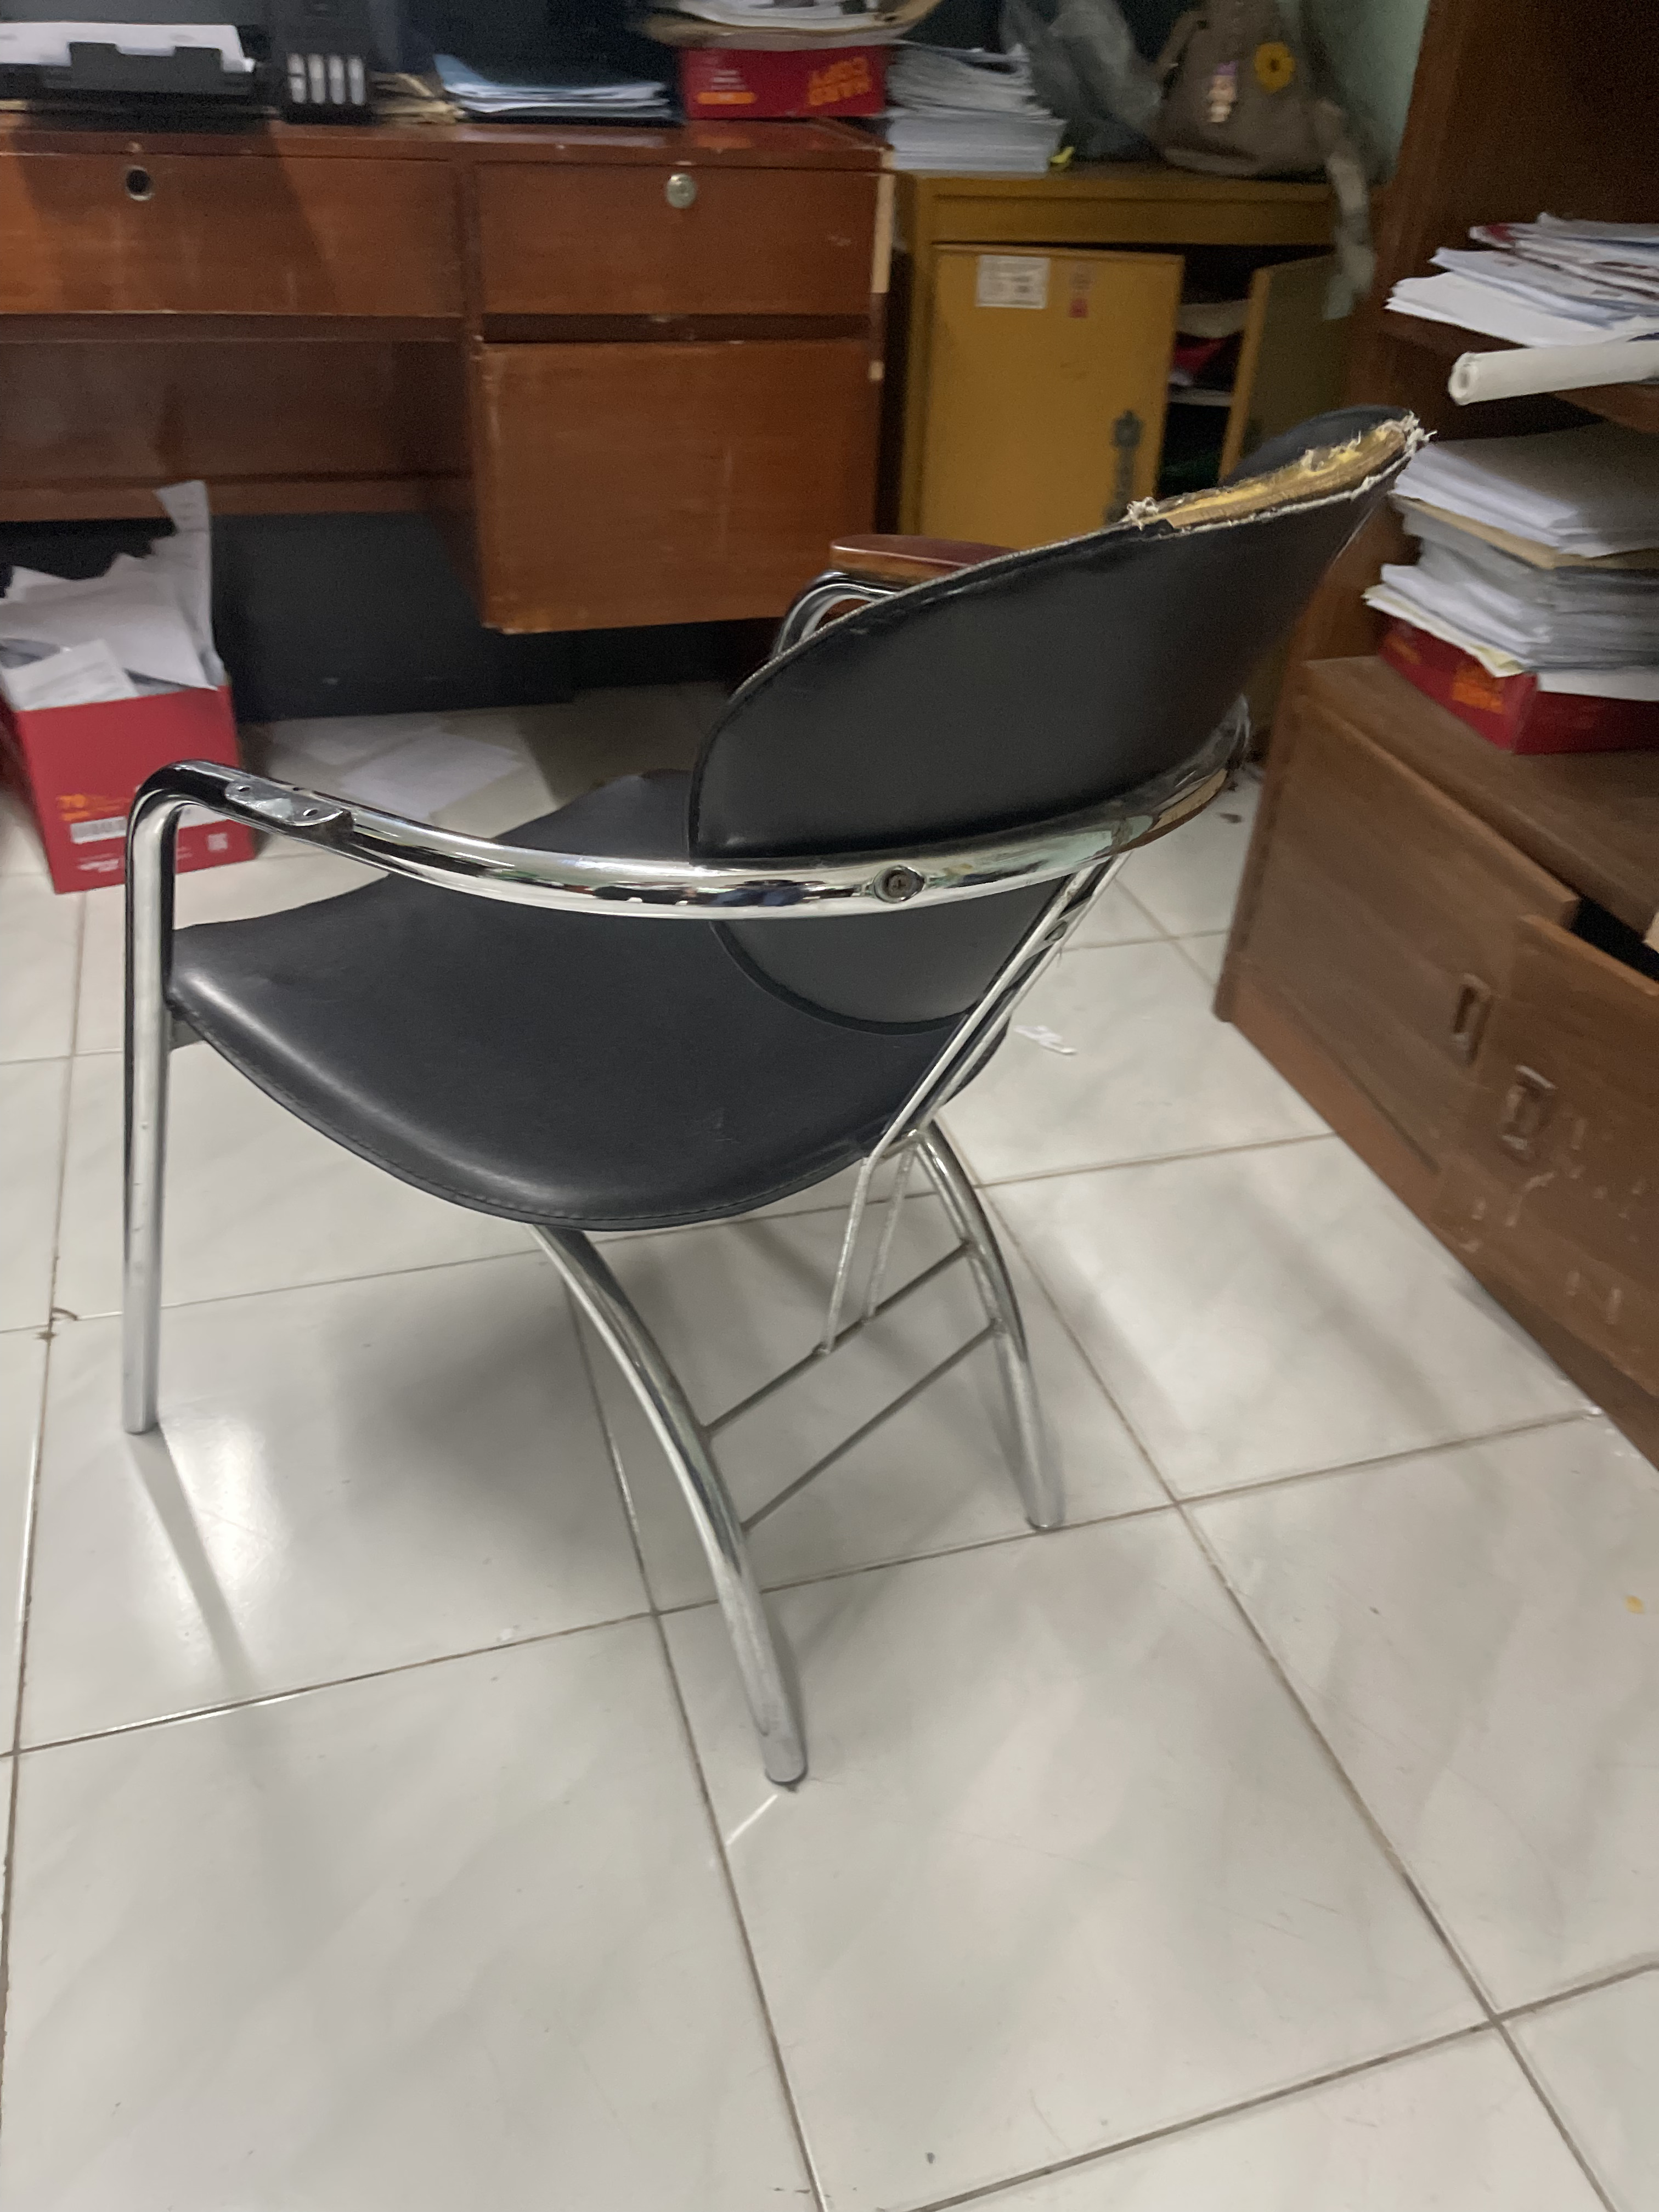chair1: (120, 394, 1432, 1817)
